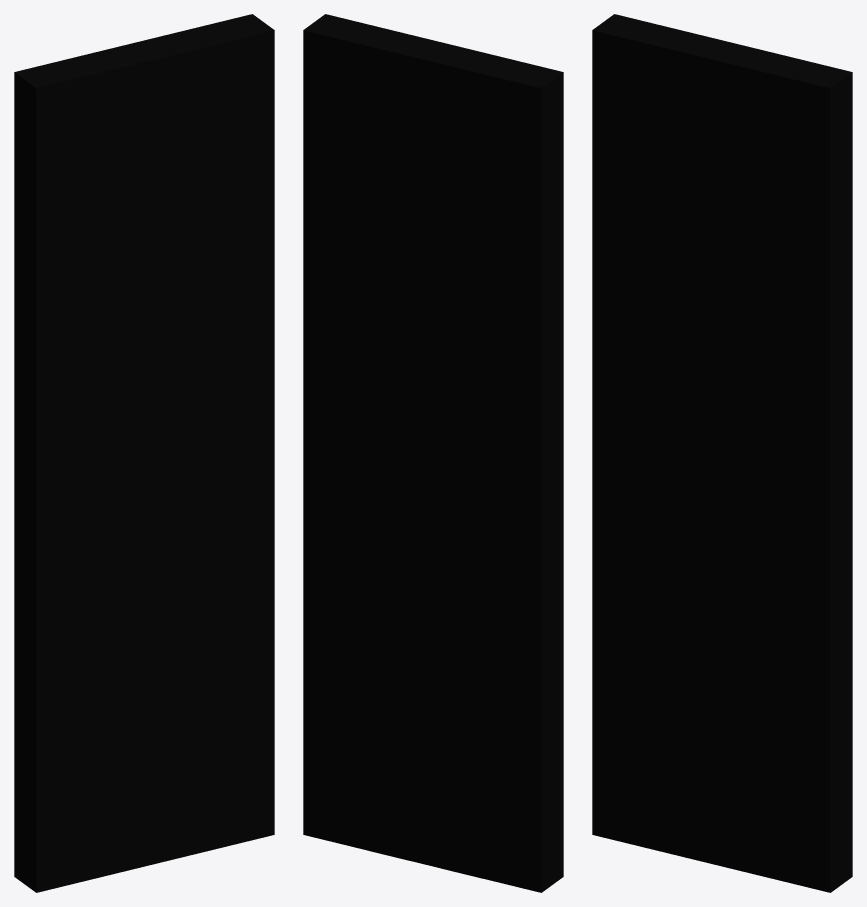
The model's file is sign.glb.
3 renders of one model, left to right at view 1: azimuth 30°, elevation 25°; view 2: azimuth 150°, elevation 25°; view 3: azimuth 330°, elevation 25°, orthographic.
Parts seen in each view (by area): view 1: group; view 2: group; view 3: group.
Part boxes in pixels (<box>): group: <box>14,14,274,892</box>; group: <box>303,14,563,892</box>; group: <box>592,14,852,892</box>.
Bounding box in the file's own units: 2.48 × 8.04 × 0.4.
Materials: 2 (1 with a texture image).
